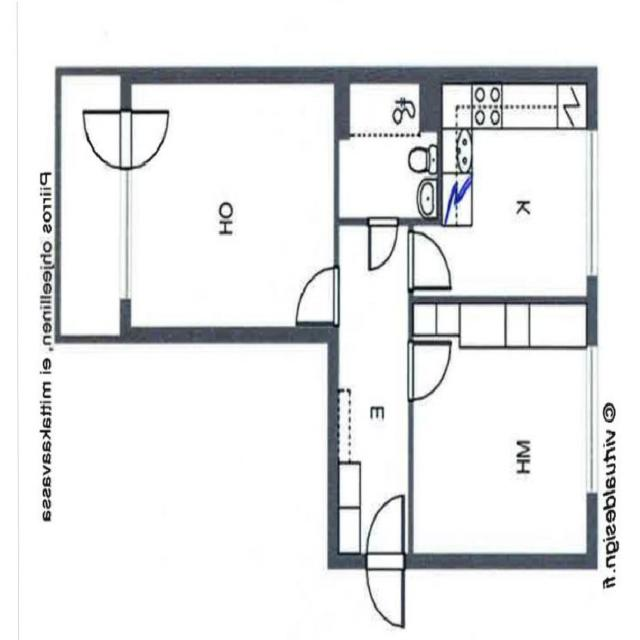door: (82, 242, 131, 300), (120, 242, 168, 300), (367, 498, 403, 569), (367, 554, 403, 623), (408, 350, 450, 407), (408, 232, 450, 288), (370, 218, 398, 268)
